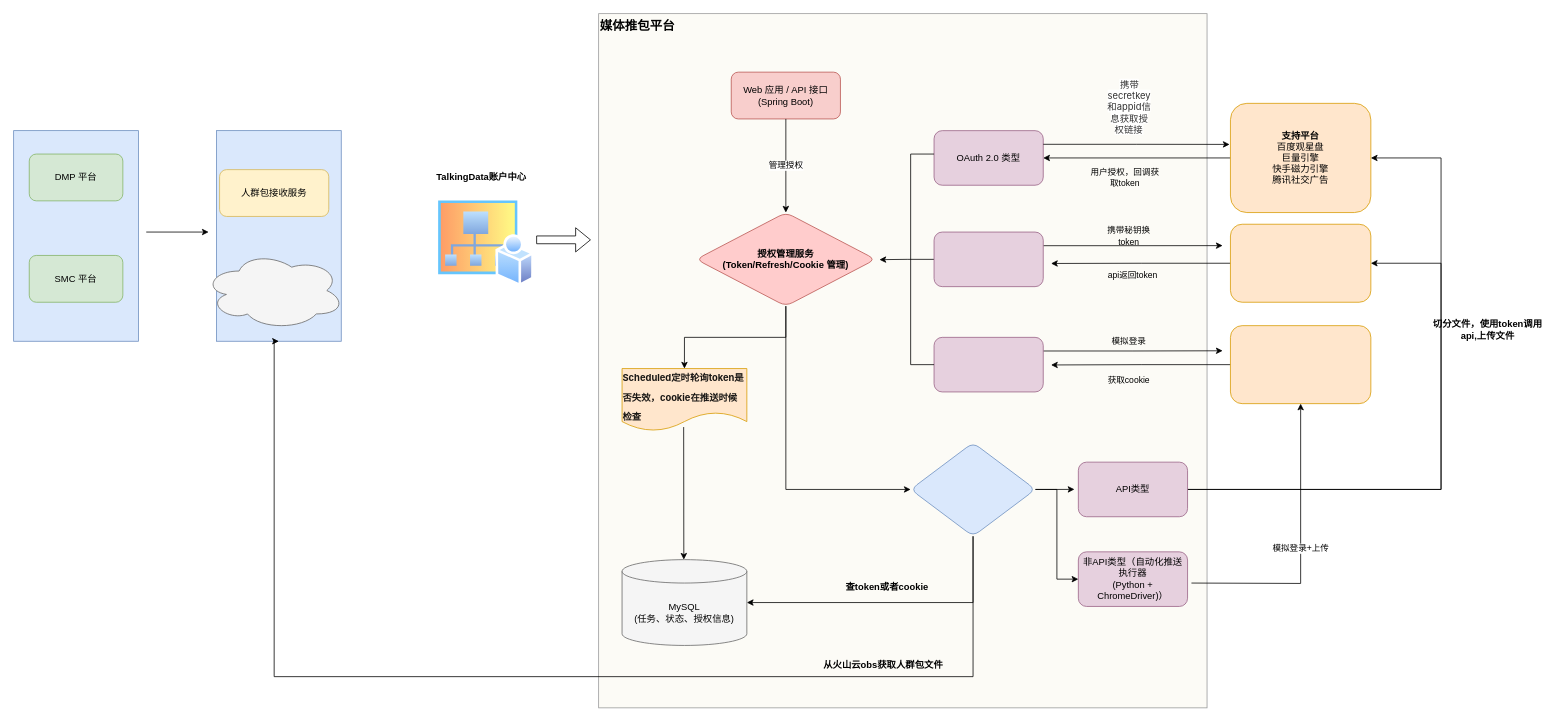
The diagram is 1564 pixels wide and 722 high, and some of its shapes have lost their labels. Each missing label, with the box of its shape:
API Key 类型: (933, 231, 1043, 287)
cookie 类型: (933, 337, 1043, 392)
推送人群推送执行: (910, 442, 1035, 536)
支持平台 京东数坊/Databank 小红书灵犀: (1230, 325, 1371, 404)
支持平台 小红书聚光 微博广告 华为 DMP: (1230, 223, 1371, 302)
火山云对象存储 (OBS) (存储人群包文件): (203, 251, 344, 330)
